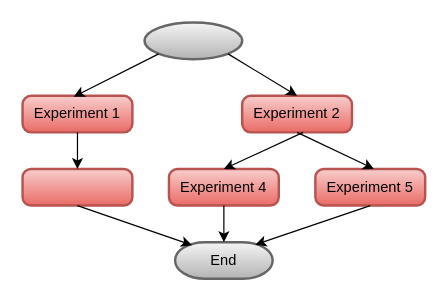
The diagram is 447 pixels wide and 300 high, and some of its shapes have lost their labels. The shapes that lost their labels are listed below. From the top down, each one's box as (x1, y1, x2, y2) in pixels, then its label:
(143, 21, 243, 60): Start
(21, 167, 133, 206): Experiment 3
